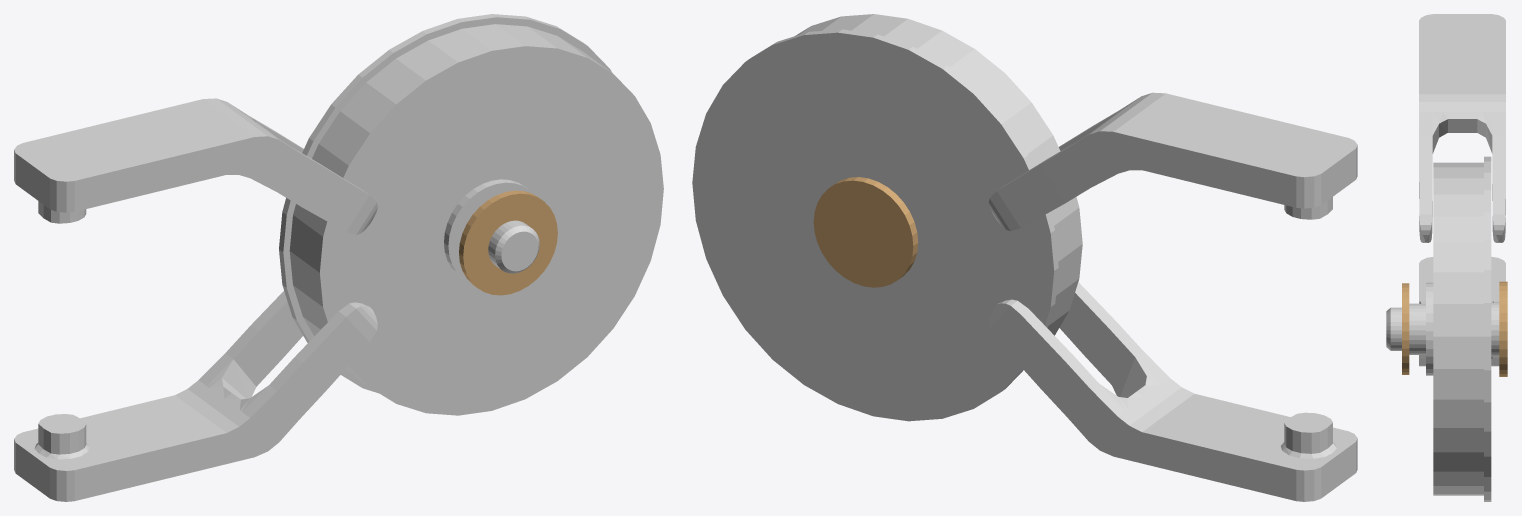
The model's file is ALPHA_low.dae.
3 renders of one model, left to right at view 1: azimuth 30°, elevation 25°; view 2: azimuth 150°, elevation 25°; view 3: azimuth 270°, elevation 25°, orthographic. The views are drawn at different scales.
Visible parts, largest first — view 1: Cube; view 2: Cube; view 3: Cube.
Part boxes in pixels (x1,y1,x2,y2): Cube: (14, 14, 663, 501); Cube: (692, 14, 1357, 501); Cube: (1386, 14, 1507, 501).
Size of the model in its own units: 0.1655 by 0.0334 by 0.0953.
